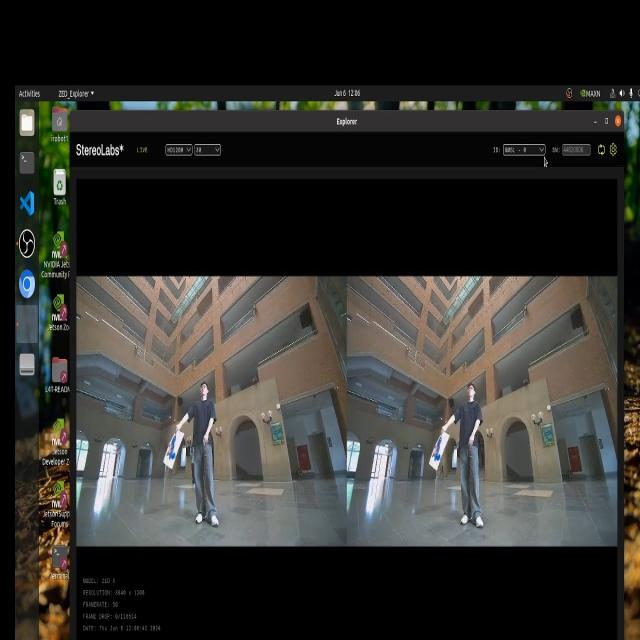blue: (430, 433, 444, 465), (164, 430, 178, 460)
